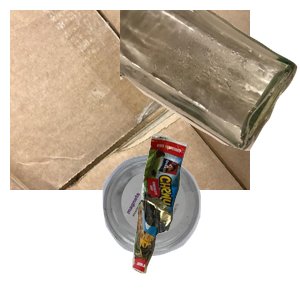cardboard: (10, 10, 250, 190)
glass: (120, 10, 300, 153)
plastic: (100, 152, 293, 300)
trash: (130, 131, 300, 300)
